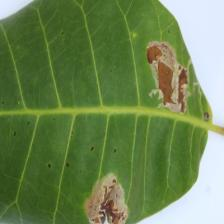leaf miner: (0, 0, 220, 224), (146, 40, 188, 114), (84, 172, 129, 223)
